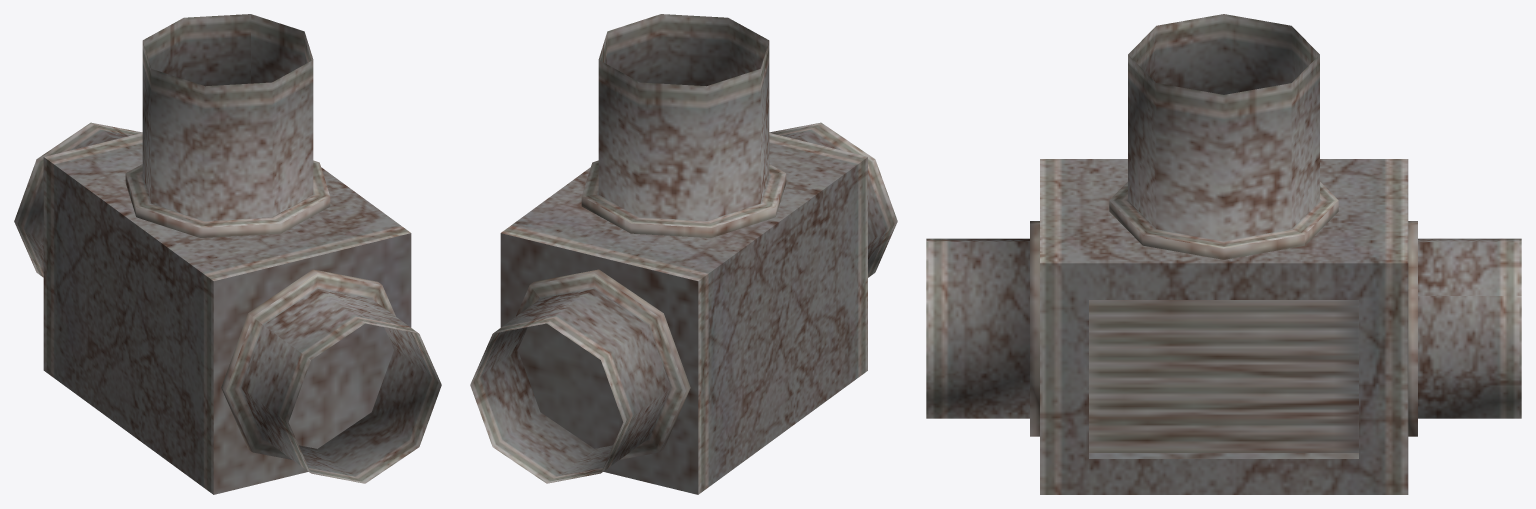
File: Venting10.fbx
3 renders of one model, left to right at view 1: azimuth 30°, elevation 25°; view 2: azimuth 150°, elevation 25°; view 3: azimuth 270°, elevation 25°, orthographic. The views are drawn at different scales.
Visible parts, largest first — view 1: Venting10; view 2: Venting10; view 3: Venting10.
Boxes of the visible parts, <box> form: Venting10: <box>14,14,441,494</box>; Venting10: <box>470,14,897,494</box>; Venting10: <box>926,14,1521,494</box>.
Bounding box in the file's own units: 83.13 × 144 × 200.
